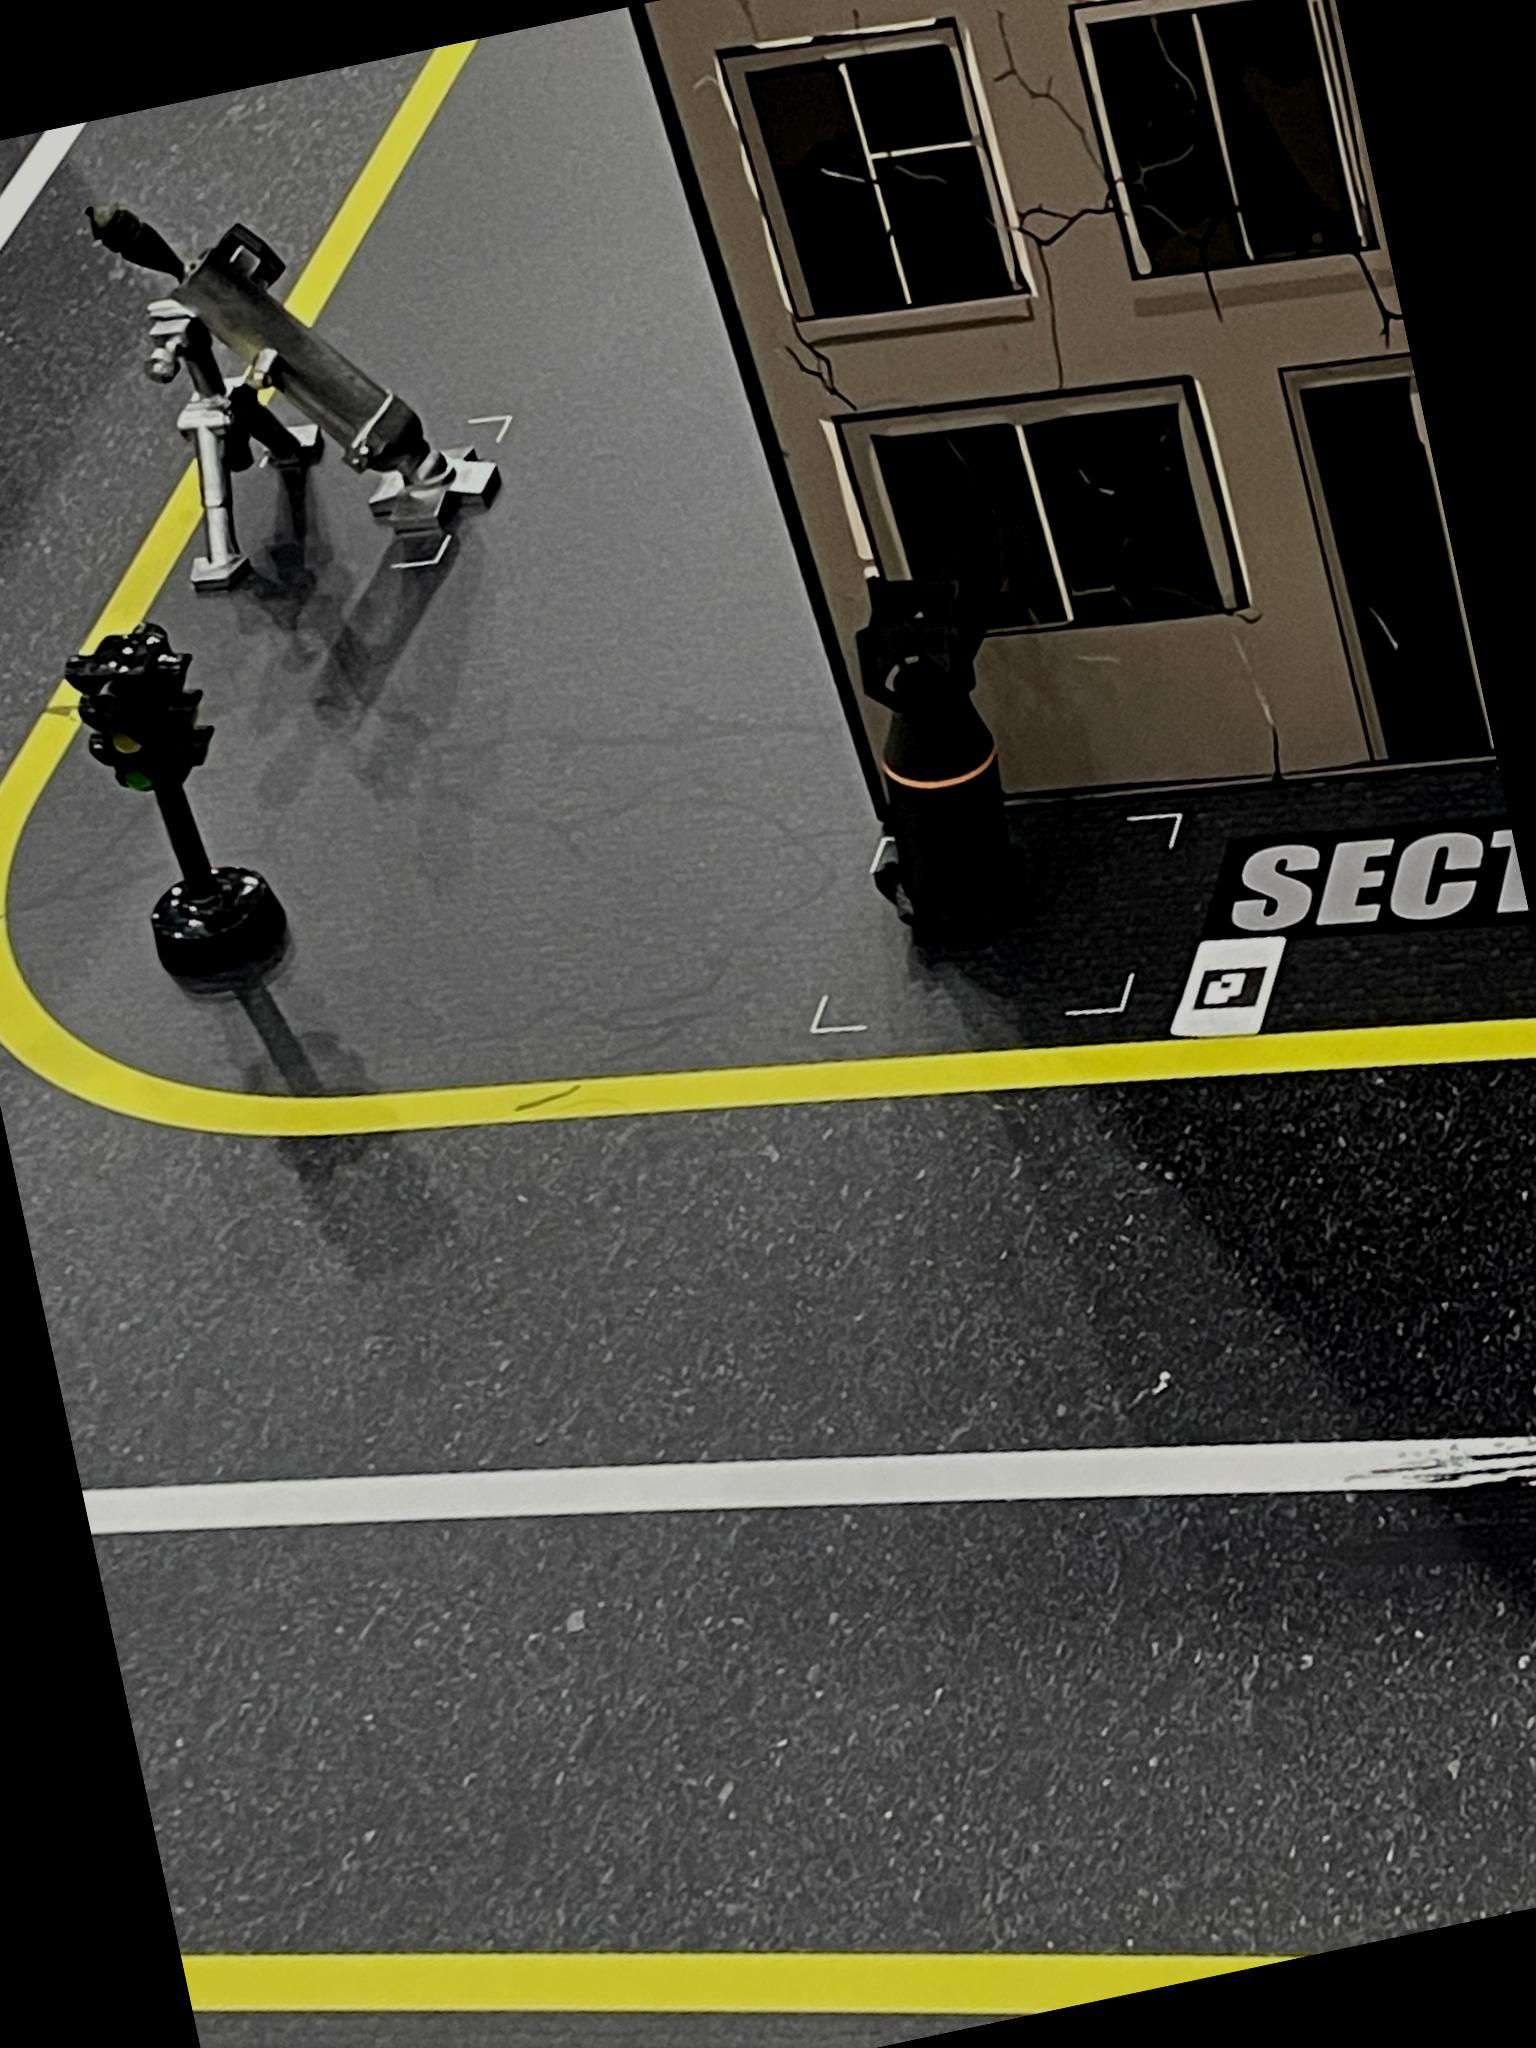Missile: (823, 548, 1057, 958)
Mortar: (66, 116, 539, 639)
